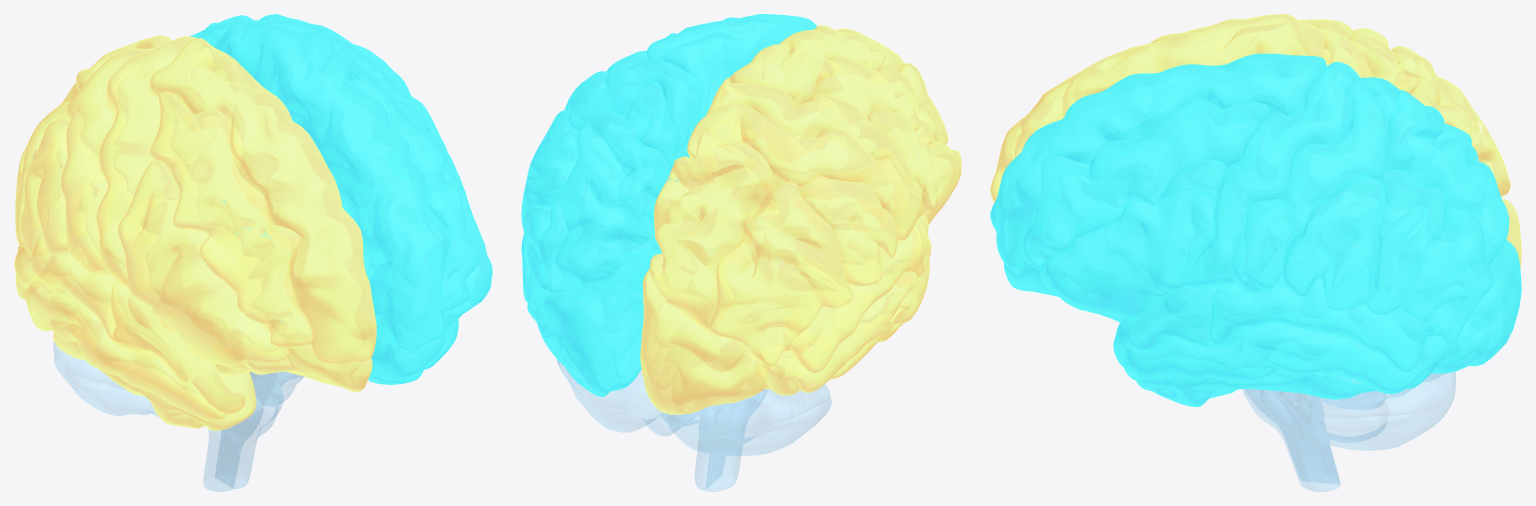
Rendered from nervis-hologram-brain-narrow-gap.glb.
3 renders of one model, left to right at view 1: azimuth 30°, elevation 25°; view 2: azimuth 150°, elevation 25°; view 3: azimuth 270°, elevation 25°, orthographic. The views are drawn at different scales.
Parts seen in each view (by area): view 1: ROI_11_Prefrontal_R, ROI_01_Prefrontal_L, ROI_12_Motor_Premotor_R, ROI_16_Middle_Inferior_Temporal_R, ROI_15_Superior_Temporal_R, ROI_13_Somatosensory_R, ROI_02_Motor_Premotor_L, ROI_14_Posterior_Parietal_R, Brainstem_Context, Cerebellum_Context, ROI_09_Cingulate_L, ROI_03_Somatosensory_L (+2 smaller); view 2: ROI_14_Posterior_Parietal_R, ROI_04_Posterior_Parietal_L, ROI_12_Motor_Premotor_R, ROI_11_Prefrontal_R, ROI_13_Somatosensory_R, Cerebellum_Context, ROI_18_Occipital_Visual_R, ROI_08_Occipital_Visual_L, ROI_02_Motor_Premotor_L, ROI_16_Middle_Inferior_Temporal_R, ROI_15_Superior_Temporal_R, ROI_03_Somatosensory_L (+4 smaller); view 3: ROI_01_Prefrontal_L, ROI_04_Posterior_Parietal_L, ROI_02_Motor_Premotor_L, ROI_06_Middle_Inferior_Temporal_L, ROI_05_Superior_Temporal_L, ROI_03_Somatosensory_L, ROI_11_Prefrontal_R, Cerebellum_Context, ROI_08_Occipital_Visual_L, ROI_12_Motor_Premotor_R, Brainstem_Context, ROI_14_Posterior_Parietal_R (+4 smaller).
Boxes of the visible parts, x1,y1,x2,y2 form: ROI_11_Prefrontal_R: (118,73,376,391); ROI_01_Prefrontal_L: (276,51,492,380); ROI_12_Motor_Premotor_R: (96,36,257,291); ROI_16_Middle_Inferior_Temporal_R: (26,270,256,430); ROI_15_Superior_Temporal_R: (14,232,245,415); ROI_13_Somatosensory_R: (60,35,171,274); ROI_02_Motor_Premotor_L: (214,18,434,131); ROI_14_Posterior_Parietal_R: (15,38,148,257); Brainstem_Context: (203,371,303,491); Cerebellum_Context: (53,342,302,418); ROI_09_Cingulate_L: (223,176,390,320); ROI_03_Somatosensory_L: (197,14,446,149); ROI_14_Posterior_Parietal_R: (649,131,897,367); ROI_04_Posterior_Parietal_L: (521,110,677,310); ROI_12_Motor_Premotor_R: (706,44,923,218); ROI_11_Prefrontal_R: (764,25,961,224); ROI_13_Somatosensory_R: (687,102,920,242); Cerebellum_Context: (557,360,831,455); ROI_18_Occipital_Visual_R: (640,269,784,414); ROI_08_Occipital_Visual_L: (535,249,659,396); ROI_02_Motor_Premotor_L: (606,27,745,176); ROI_16_Middle_Inferior_Temporal_R: (755,261,929,395); ROI_15_Superior_Temporal_R: (783,215,931,372); ROI_03_Somatosensory_L: (564,71,679,172); ROI_01_Prefrontal_L: (990,60,1242,322); ROI_04_Posterior_Parietal_L: (1282,90,1509,343); ROI_02_Motor_Premotor_L: (1182,53,1370,289); ROI_06_Middle_Inferior_Temporal_L: (1122,307,1450,407); ROI_05_Superior_Temporal_L: (1113,246,1427,372); ROI_03_Somatosensory_L: (1232,77,1415,293); ROI_11_Prefrontal_R: (990,19,1242,202); Cerebellum_Context: (1294,372,1455,450); ROI_08_Occipital_Visual_L: (1402,239,1521,373); ROI_12_Motor_Premotor_R: (1201,14,1372,77); Brainstem_Context: (1243,389,1339,491); ROI_14_Posterior_Parietal_R: (1372,46,1510,196).
Bounding box in the file's own units: 2.25 × 2.58 × 2.79.
